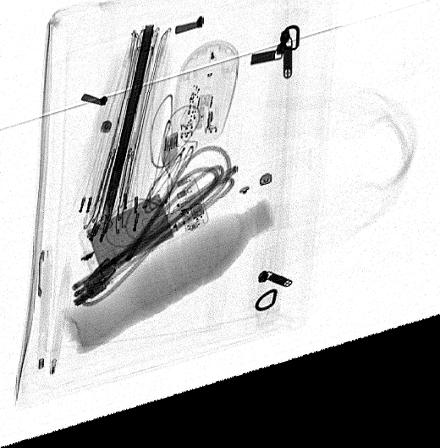Powerbank: (79, 186, 210, 288)
